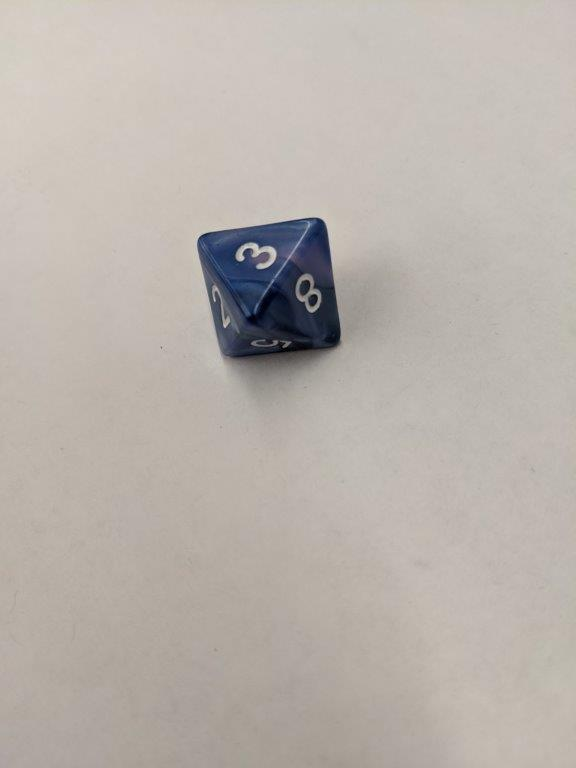d8-3: (195, 218, 341, 361)
